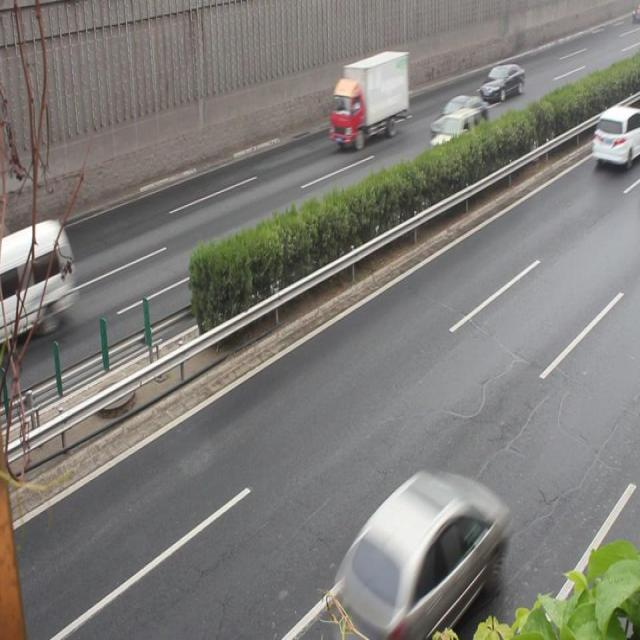bus: (328, 50, 408, 146)
car: (333, 470, 503, 640), (591, 103, 640, 168), (428, 108, 481, 163), (430, 96, 487, 146), (480, 64, 523, 107)
truck: (0, 219, 74, 343)
